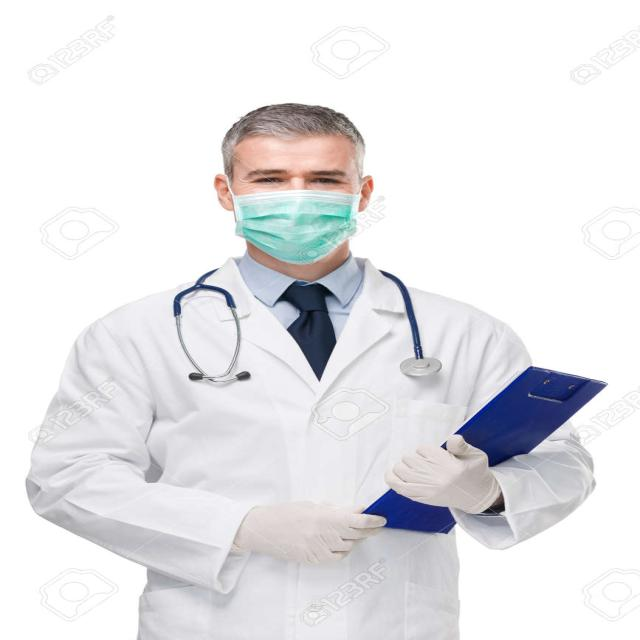Gloves: (245, 495, 388, 576), (387, 438, 514, 516)
Mask: (187, 170, 398, 269)
